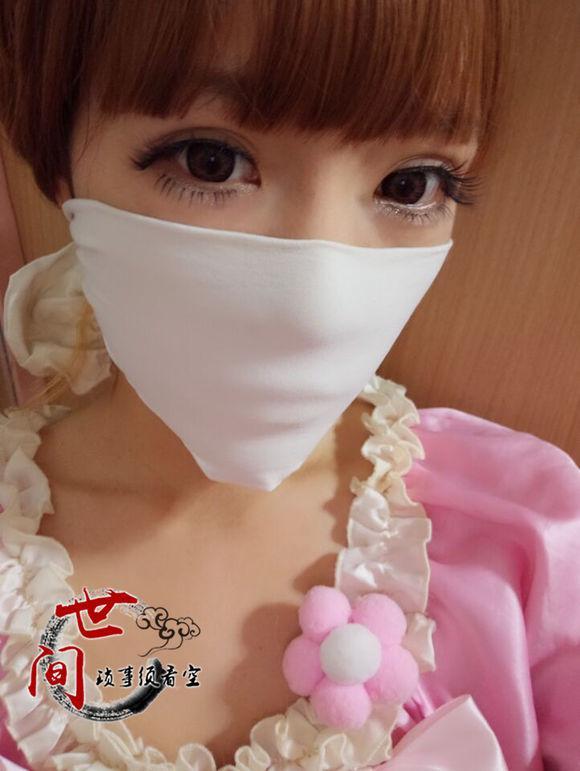OK: (55, 59, 475, 479)
